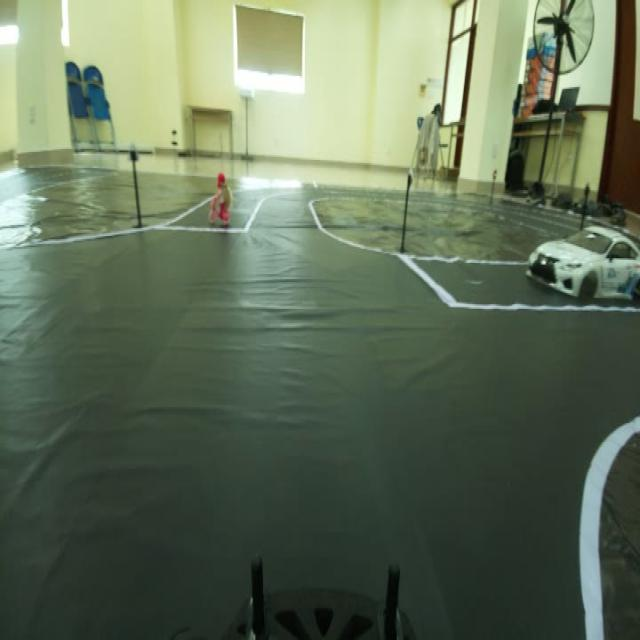car: (530, 216, 634, 312)
